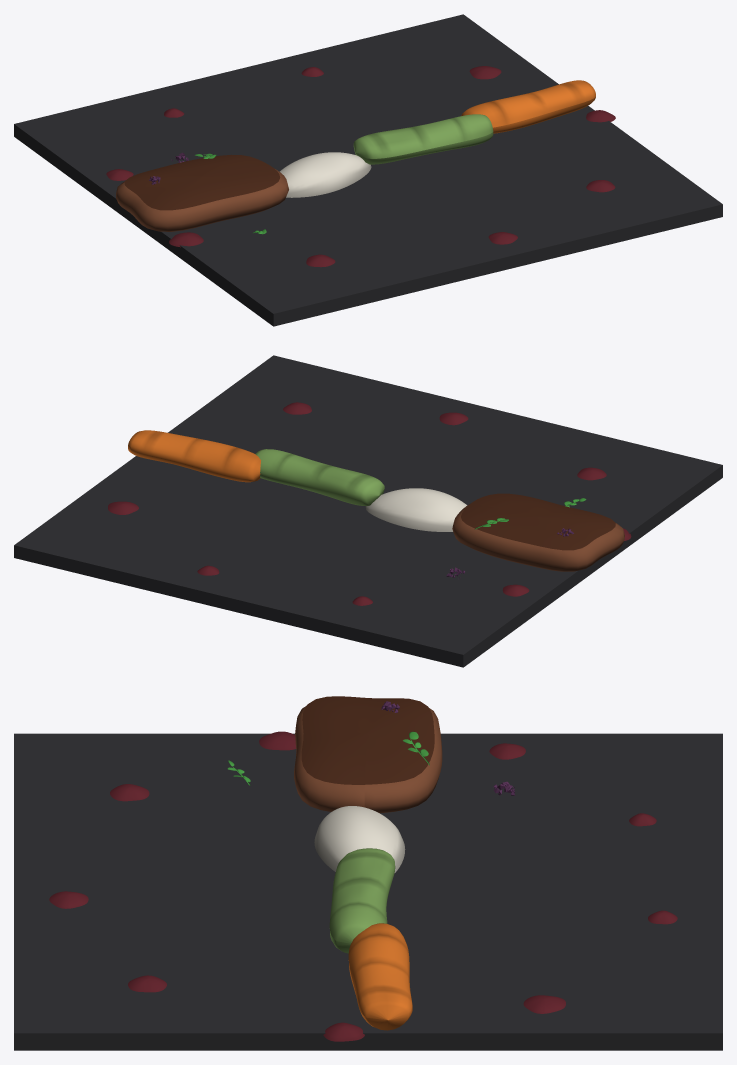
The model's file is slate-linear.gltf.
3 views of the same model, one above another, from view 1: azimuth 30°, elevation 25°; view 2: azimuth 150°, elevation 25°; view 3: azimuth 270°, elevation 25° (orthographic). The views are drawn at different scales.
Parts seen in each view (by area): view 1: plate, Seared duck breast crust, Charred baby leek, Seared duck breast, Confit carrot, Celeriac puree; view 2: plate, Seared duck breast crust, Confit carrot, Charred baby leek, Seared duck breast, Celeriac puree; view 3: plate, Seared duck breast crust, Confit carrot, Seared duck breast, Charred baby leek, Celeriac puree, sauce-dotted (×3).
Part boxes in pixels (box(x1,y1,x2,y2)): plate: box(14, 14, 722, 326); Seared duck breast crust: box(124, 154, 280, 210); Charred baby leek: box(353, 114, 493, 164); Seared duck breast: box(116, 169, 288, 231); Confit carrot: box(461, 80, 595, 133); Celeriac puree: box(279, 152, 371, 197); plate: box(14, 355, 722, 667); Seared duck breast crust: box(461, 493, 615, 550); Confit carrot: box(128, 430, 260, 482); Charred baby leek: box(255, 449, 384, 506); Seared duck breast: box(452, 503, 624, 571); Celeriac puree: box(365, 488, 467, 531); plate: box(14, 733, 722, 1050); Seared duck breast crust: box(301, 696, 434, 784); Confit carrot: box(348, 923, 412, 1030); Seared duck breast: box(294, 706, 442, 813); Charred baby leek: box(329, 848, 395, 953); Celeriac puree: box(314, 806, 405, 872); sauce-dotted (×3): box(259, 731, 565, 1041).
Bounding box in the file's own units: 1.88 × 0.1801 × 1.78.
